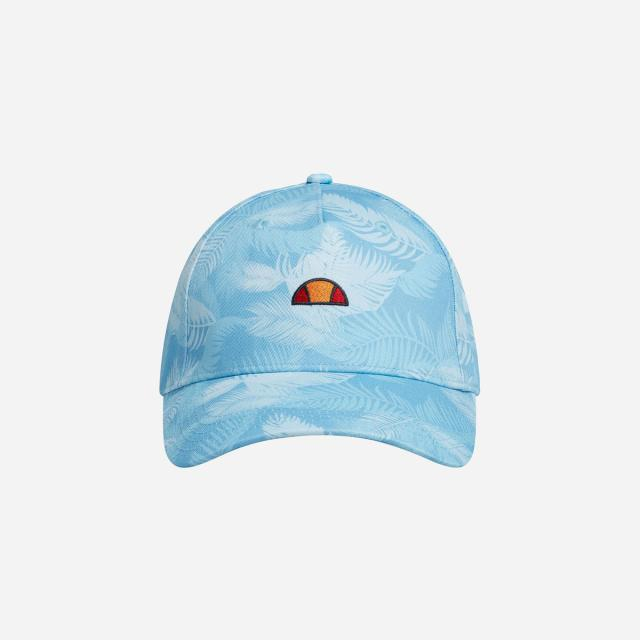Nonhelmet: (152, 166, 490, 488)
